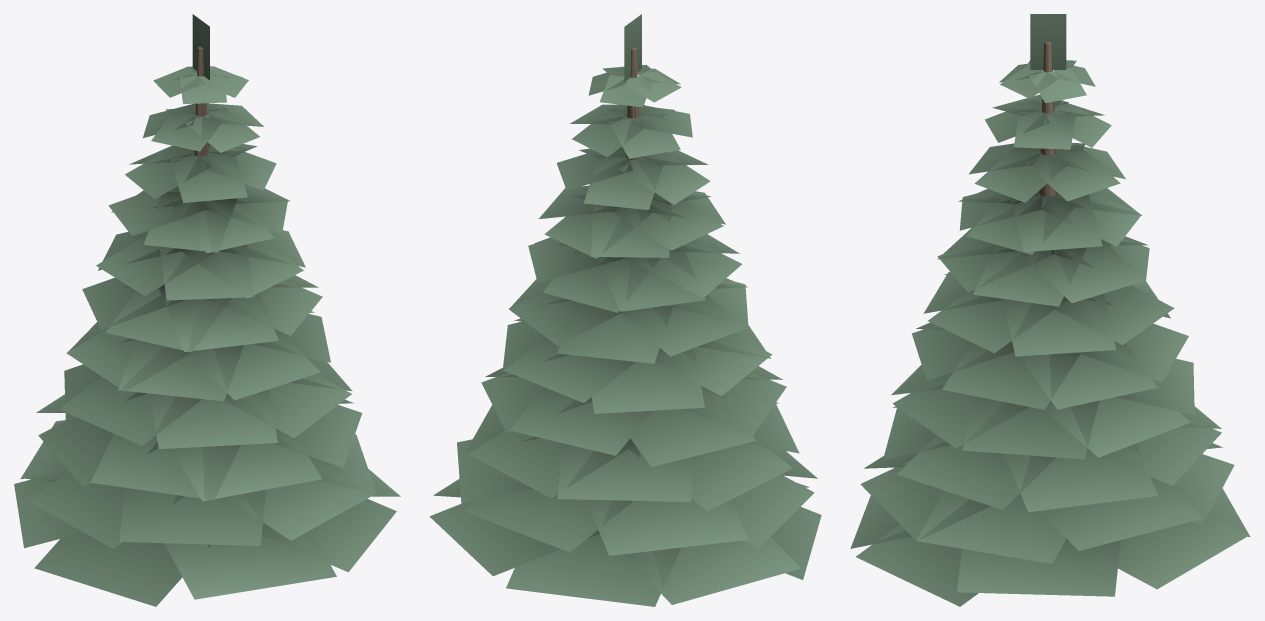
The model's file is tree_fir.glb.
3 views of the same model, side by side, from view 1: azimuth 30°, elevation 25°; view 2: azimuth 150°, elevation 25°; view 3: azimuth 270°, elevation 25° (orthographic). The views are drawn at different scales.
Visible parts, largest first — view 1: tree_fir; view 2: tree_fir; view 3: tree_fir.
Boxes of the visible parts, left/top/right/bottom form: tree_fir: left=14, top=14, right=400, bottom=606; tree_fir: left=429, top=14, right=821, bottom=606; tree_fir: left=850, top=14, right=1250, bottom=606.
Bounding box in the file's own units: 3.9 × 5.9 × 3.89.
